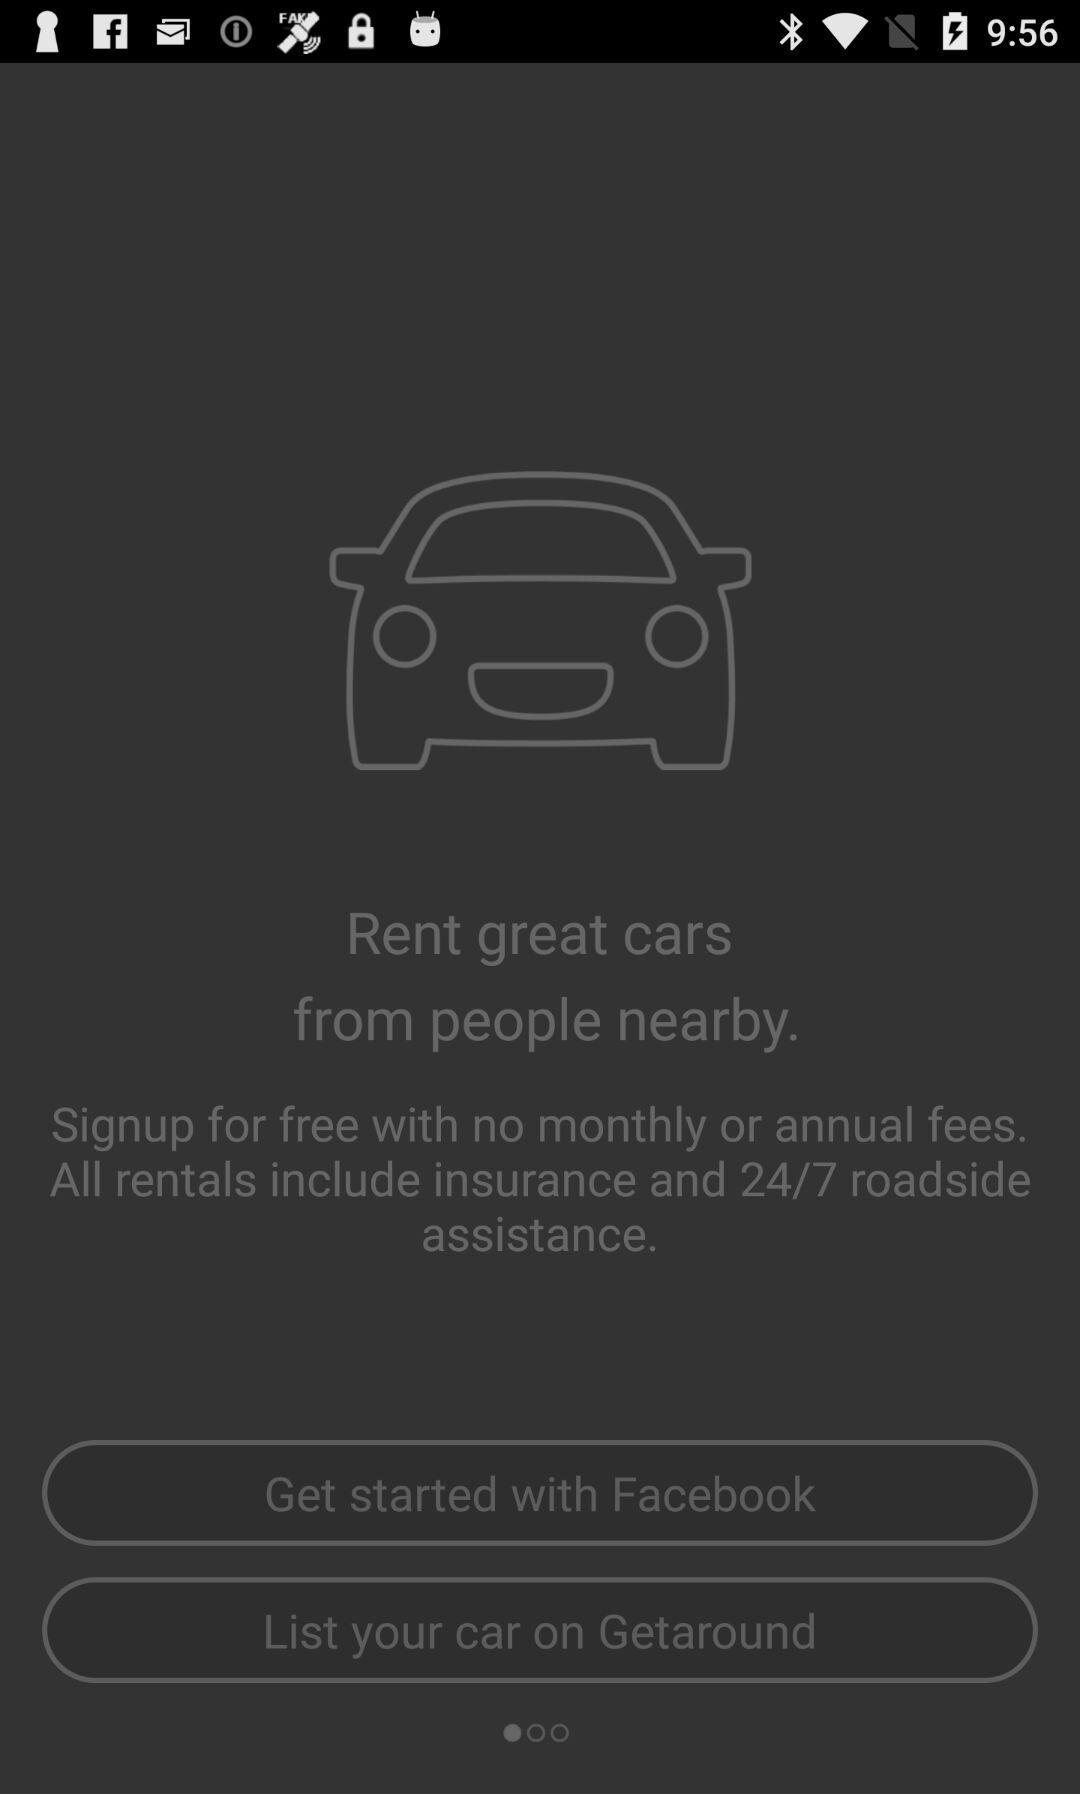Image: (325, 466, 755, 774)
PageIndicator: (501, 1722, 571, 1744)
Text: (47, 1102, 1033, 1256), (292, 910, 799, 1057)
TextButton: (40, 1439, 1040, 1548), (40, 1576, 1039, 1685)
UpperTaskBar: (1, 1, 1080, 64)
